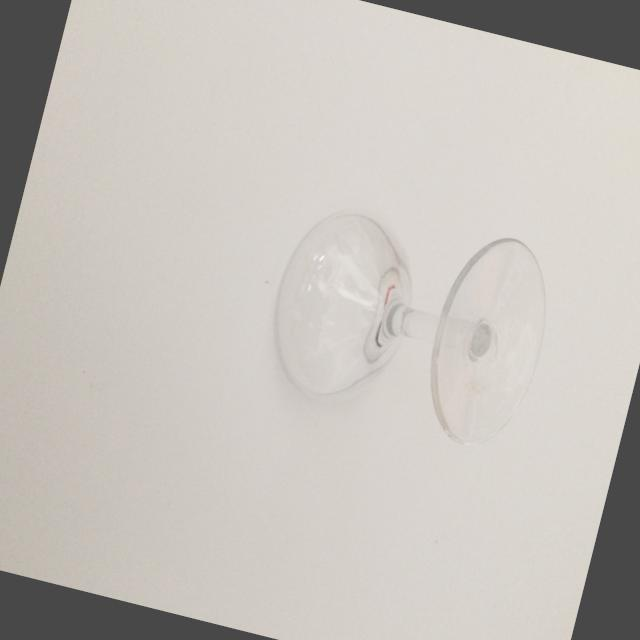Glass: (230, 168, 578, 479)
